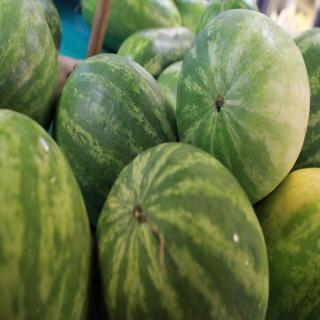Watermelon: (0, 1, 320, 320), (55, 51, 176, 202)
